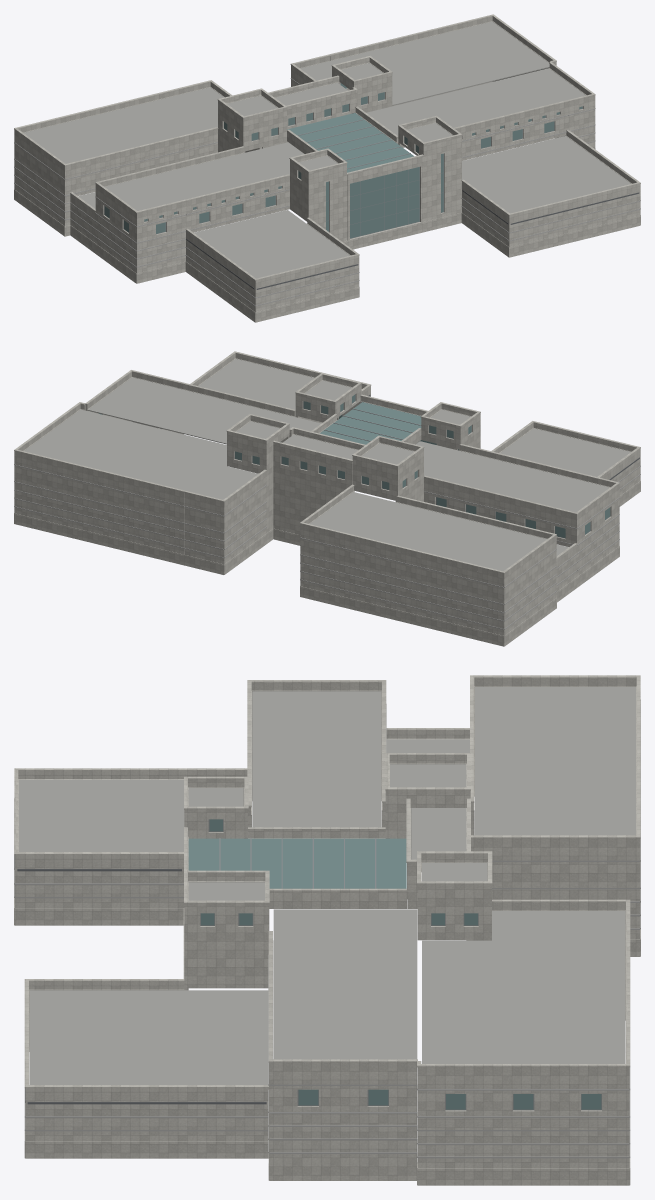
3 views of the same model, one above another, from view 1: azimuth 30°, elevation 25°; view 2: azimuth 150°, elevation 25°; view 3: azimuth 270°, elevation 25° (orthographic). The views are drawn at different scales.
Visible parts, largest first — view 1: museum__stone, museum__roof, museum__glass, museum__stoneDark, museum__frame, museum__groove; view 2: museum__stone, museum__roof, museum__stoneDark, museum__glass, museum__frame; view 3: museum__roof, museum__stone, museum__glass, museum__stoneDark, museum__groove, museum__frame.
Boxes of the visible parts, x1,y1,x2,y2 form: museum__stone: (14, 14, 640, 322); museum__roof: (24, 21, 630, 278); museum__glass: (104, 69, 582, 238); museum__stoneDark: (14, 78, 640, 306); museum__frame: (104, 92, 583, 238); museum__groove: (186, 190, 639, 289); museum__stone: (14, 351, 640, 646); museum__roof: (24, 359, 630, 571); museum__stoneDark: (14, 464, 640, 629); museum__glass: (98, 394, 610, 537); museum__frame: (234, 394, 609, 538); museum__roof: (19, 687, 635, 1084); museum__stone: (14, 675, 640, 1185); museum__glass: (188, 819, 601, 1109); museum__stoneDark: (14, 699, 640, 1158); museum__groove: (14, 855, 266, 1104); museum__frame: (200, 819, 601, 1110).
Bounding box in the file's own units: 87.14 × 17.46 × 59.14.
6 materials, 1 textured.
